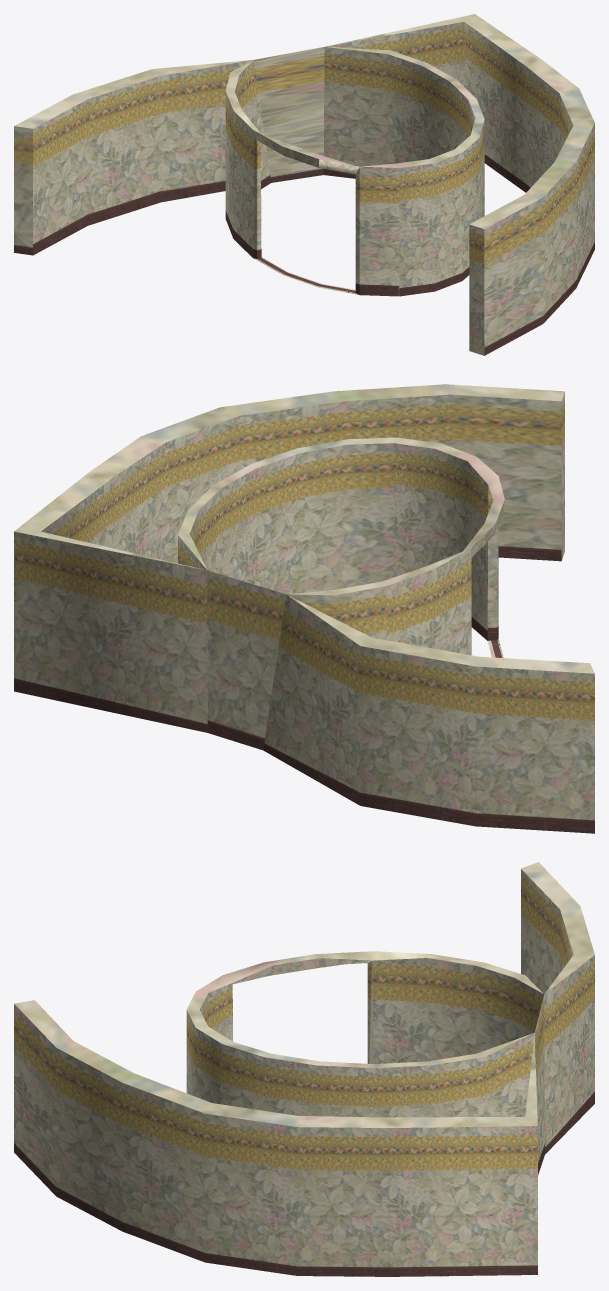
The model's file is wallBig.fbx.
3 views of the same model, one above another, from view 1: azimuth 30°, elevation 25°; view 2: azimuth 150°, elevation 25°; view 3: azimuth 270°, elevation 25° (orthographic). The views are drawn at different scales.
Parts seen in each view (by area): view 1: polySurface1; view 2: polySurface1; view 3: polySurface1.
Boxes of the visible parts, x1,y1,x2,y2 form: polySurface1: (14, 14, 594, 355); polySurface1: (14, 384, 594, 833); polySurface1: (14, 862, 594, 1276).
Size of the model in its own units: 21.29 by 5.84 by 19.64.
